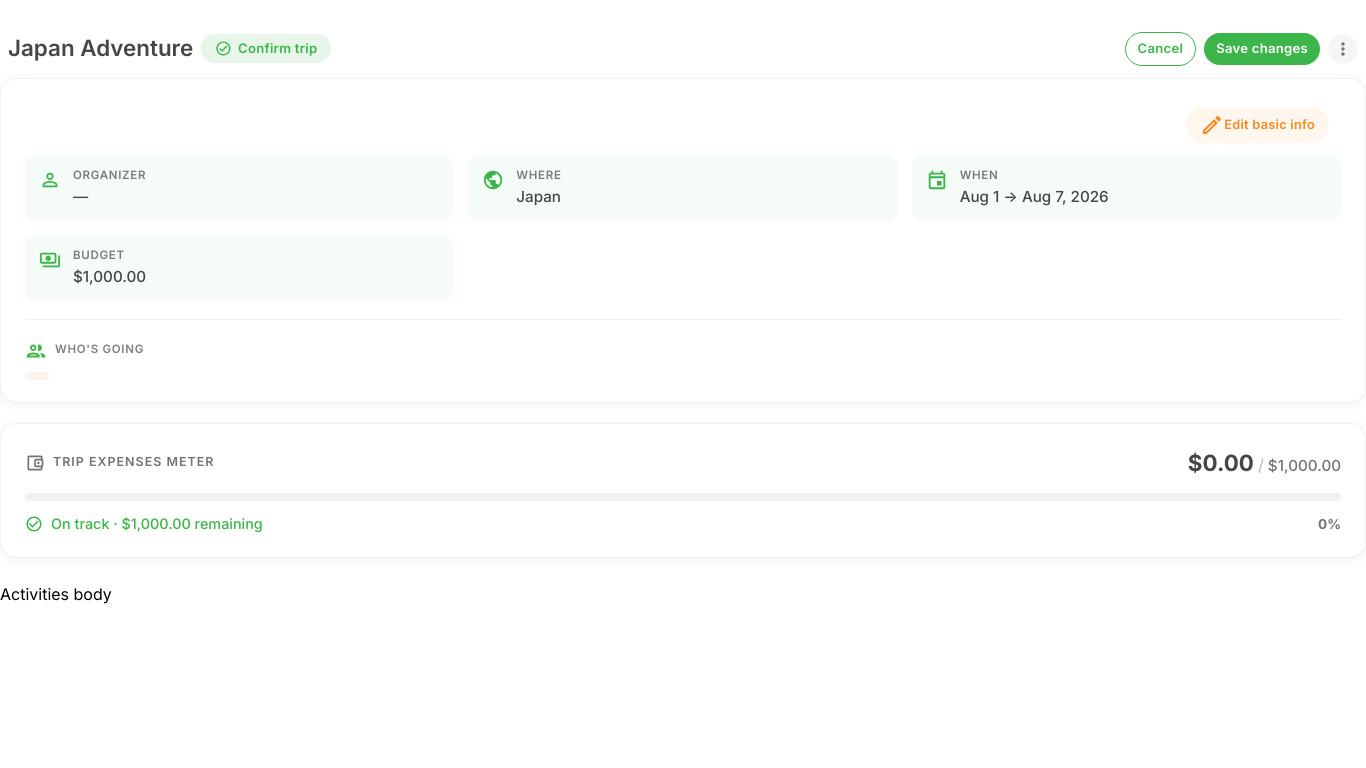
Test case: StepperComp — edit mode › surfaces a delete failure inline
Click the button named "more actions".
click(1343, 49)  # box 1328,34 -> 1358,64
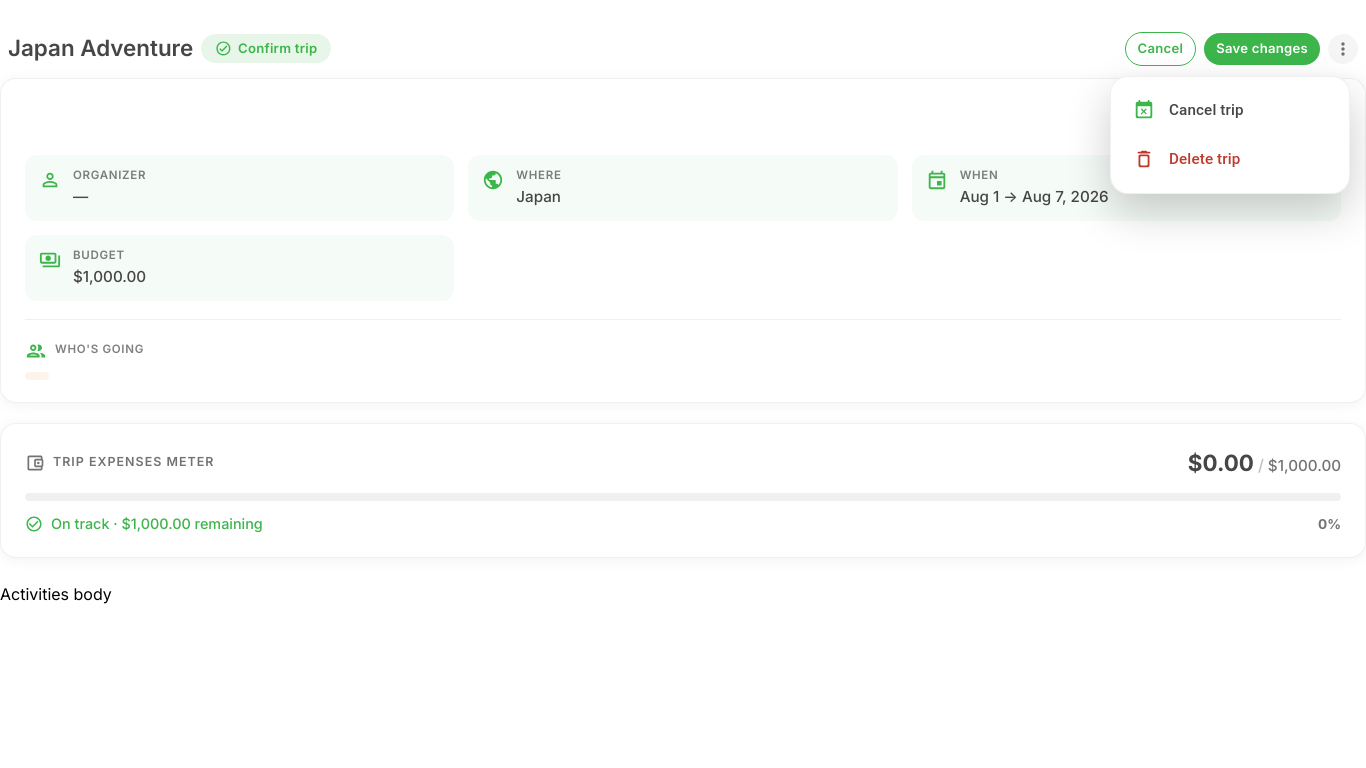
Click the menu item "Delete trip".
click(1187, 159)  # box 1133,148 -> 1240,170
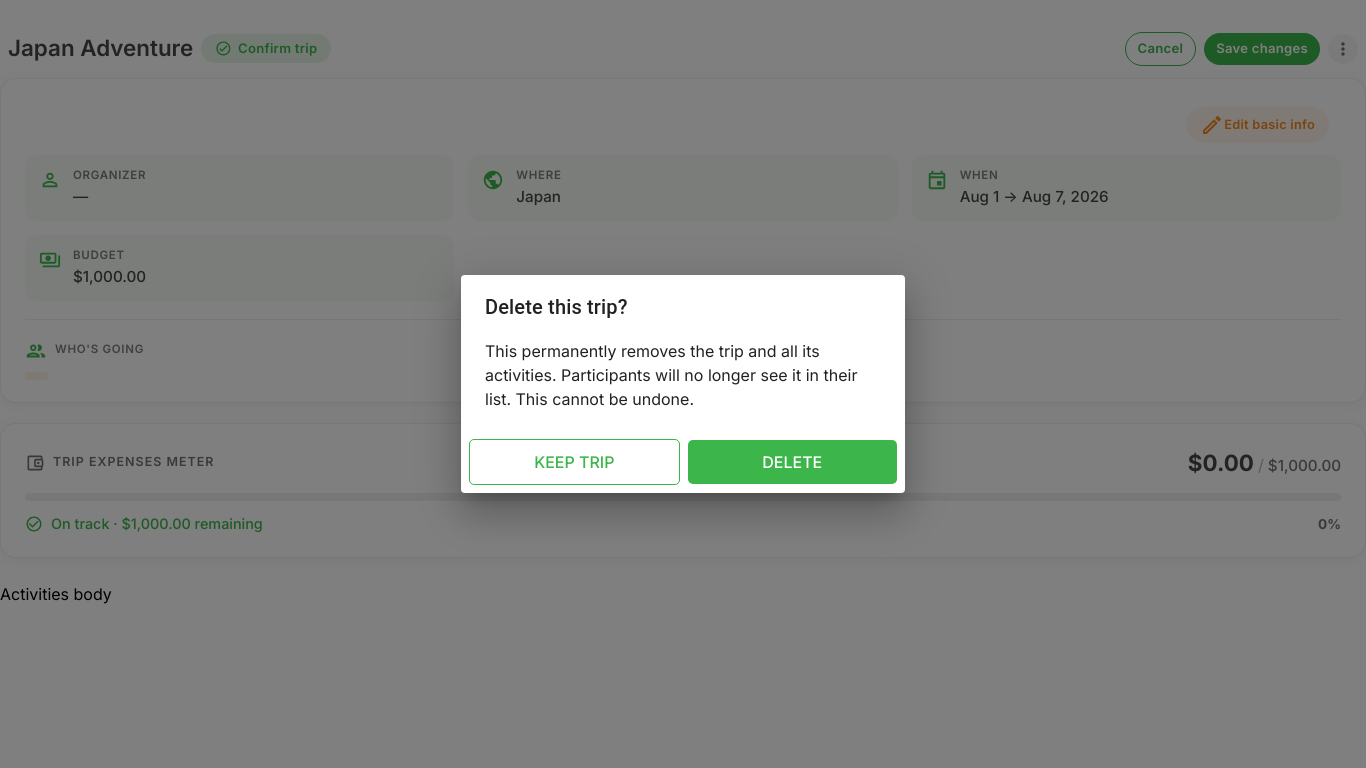
Click the button "Delete".
click(792, 462)  # box 688,440 -> 897,484
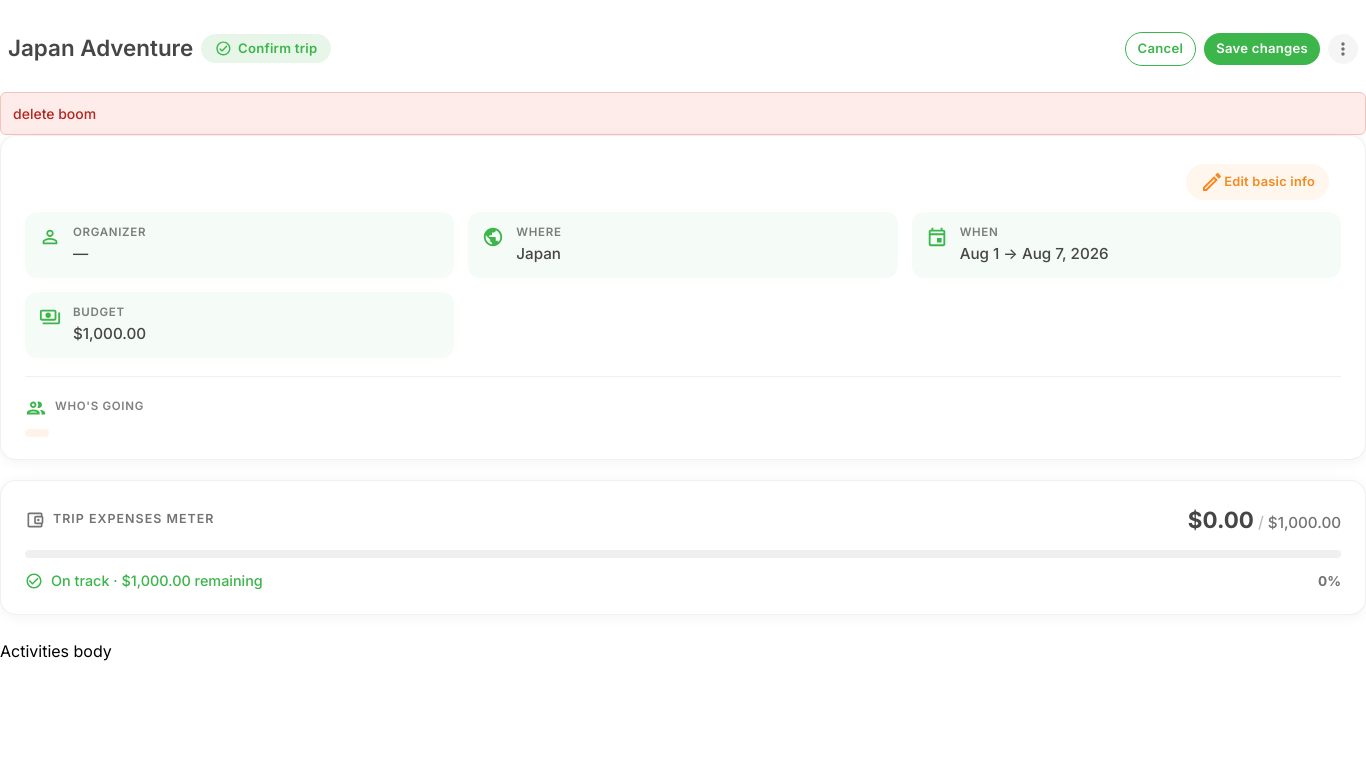
Result: the text "delete boom" is shown at 0,92 -> 1365,135
